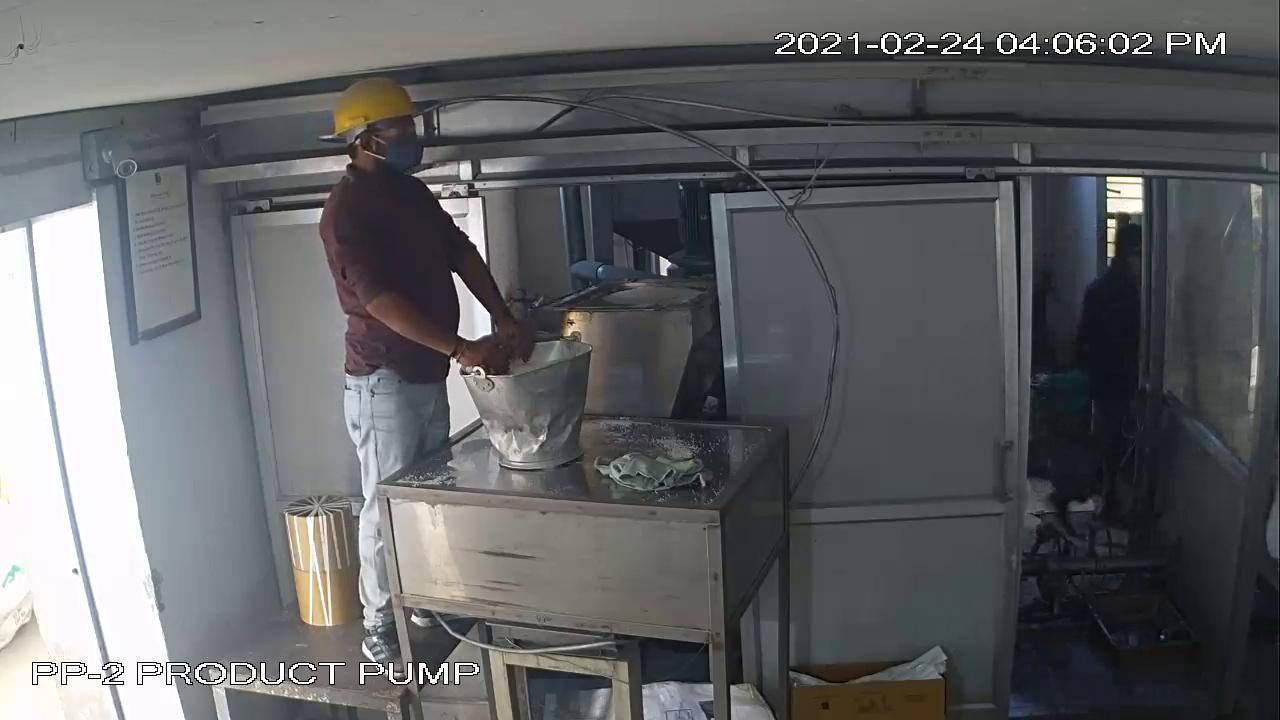helmet: (320, 66, 425, 138)
